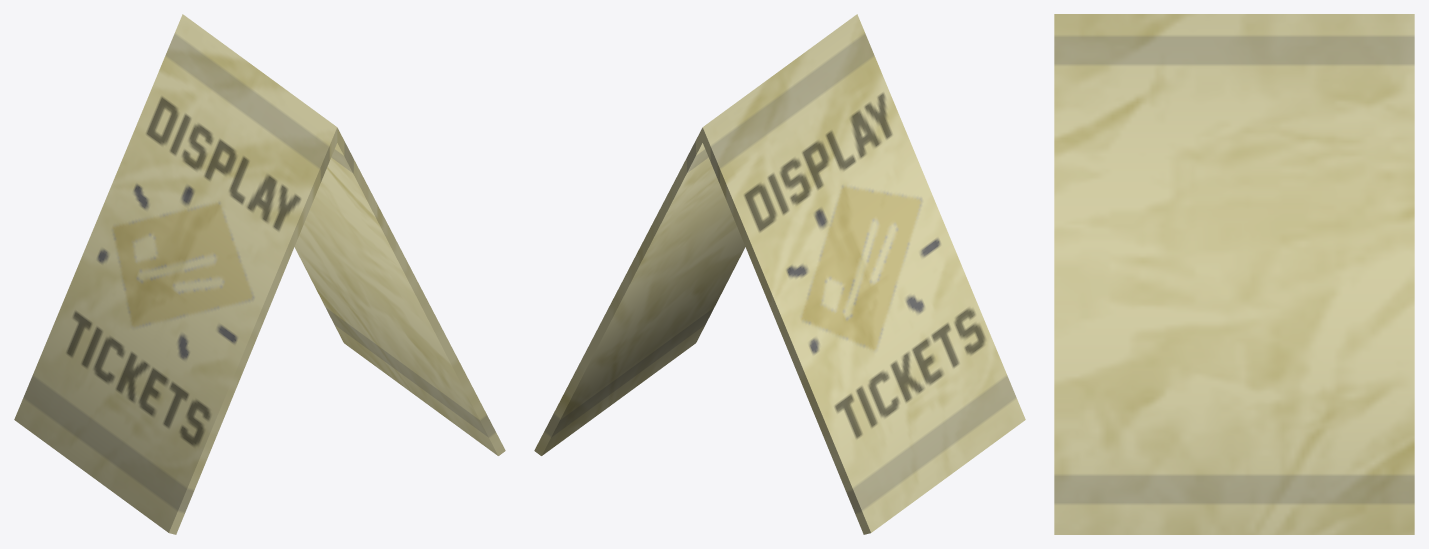
File: SIGN_model_01.FBX
3 views of the same model, side by side, from view 1: azimuth 30°, elevation 25°; view 2: azimuth 150°, elevation 25°; view 3: azimuth 270°, elevation 25° (orthographic). The views are drawn at different scales.
Parts seen in each view (by area): view 1: Object03; view 2: Object03; view 3: Object03.
Part boxes in pixels (box(x1,y1,x2,y2)): Object03: box(14, 14, 505, 534); Object03: box(534, 14, 1025, 534); Object03: box(1054, 14, 1414, 534).
Size of the model in its own units: 30.15 by 31.5 by 23.96.
Materials: 1 (1 with a texture image).
